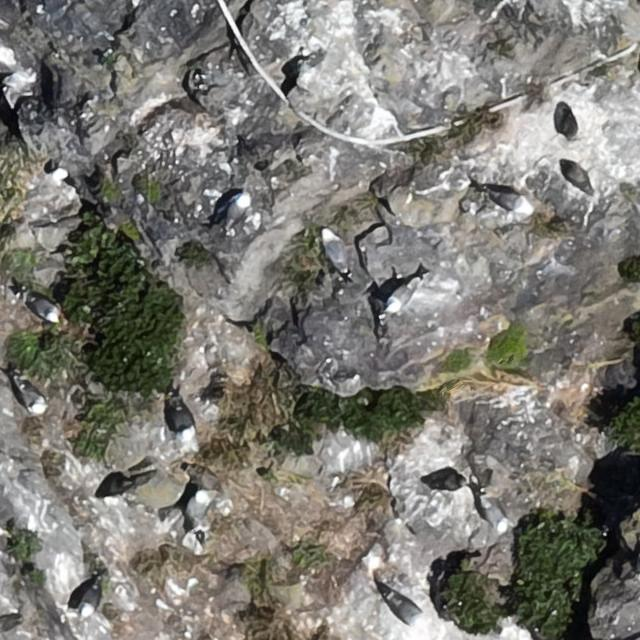umineko: (377, 583, 428, 628), (28, 294, 60, 322), (170, 402, 193, 438), (18, 382, 44, 412), (324, 232, 345, 268), (388, 284, 414, 312), (497, 195, 534, 214), (80, 582, 100, 614), (488, 505, 510, 534), (188, 491, 208, 522), (224, 195, 248, 219)
